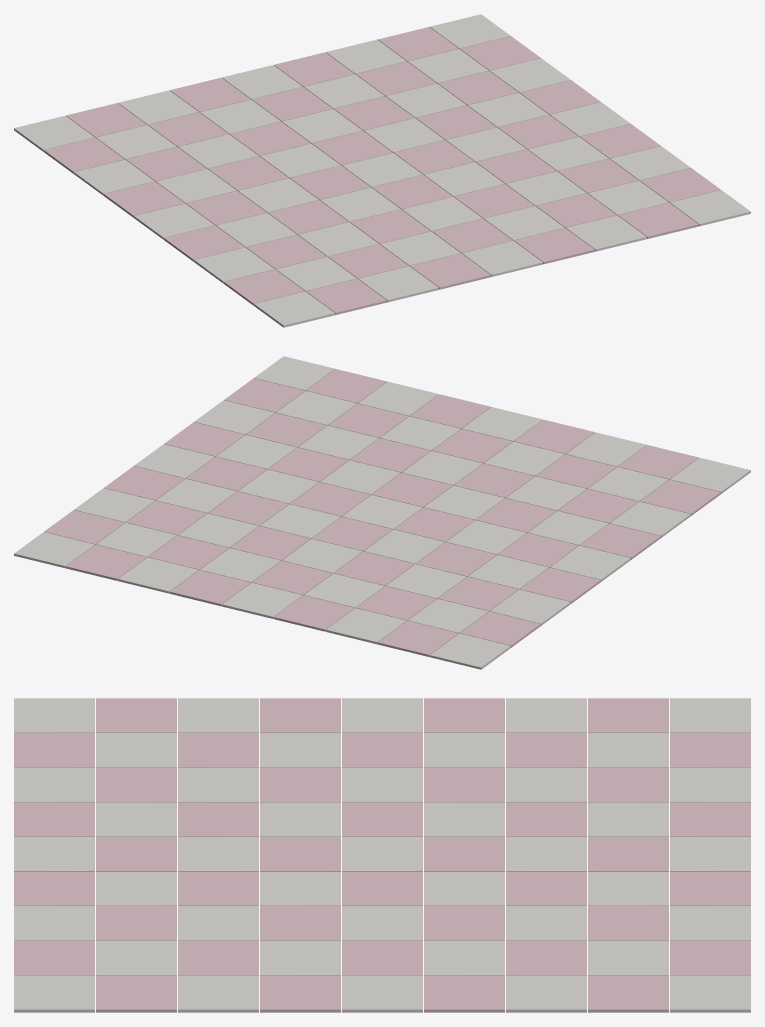
The model's file is home_floor_tiles_s1__pink.glb.
The picture shows the model from 3 angles, top to bottom: view 1: azimuth 30°, elevation 25°; view 2: azimuth 150°, elevation 25°; view 3: azimuth 270°, elevation 25°; orthographic projection. The views are drawn at different scales.
Size of the model in its own units: 8.99 by 0.0401 by 8.99.
